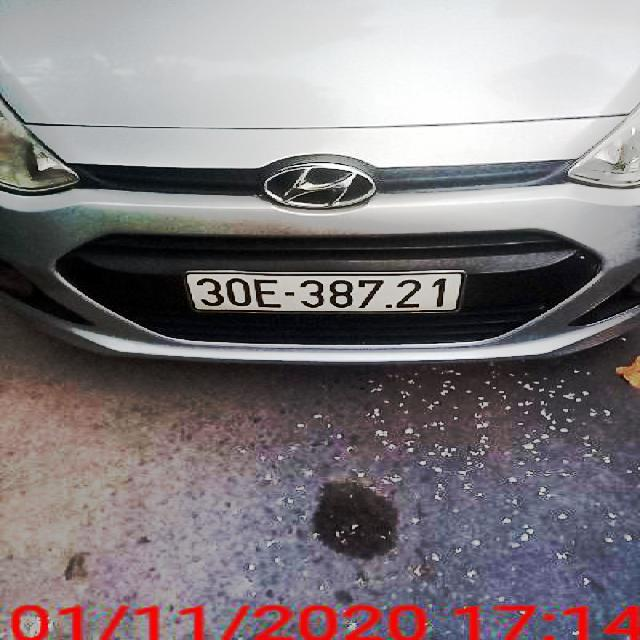license_plate: (188, 272, 466, 311)
